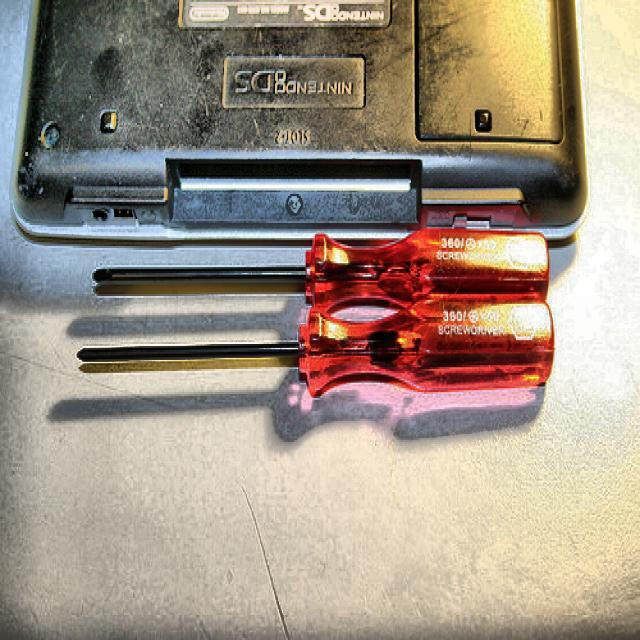screwdriver: (78, 300, 552, 398), (93, 233, 550, 296)
